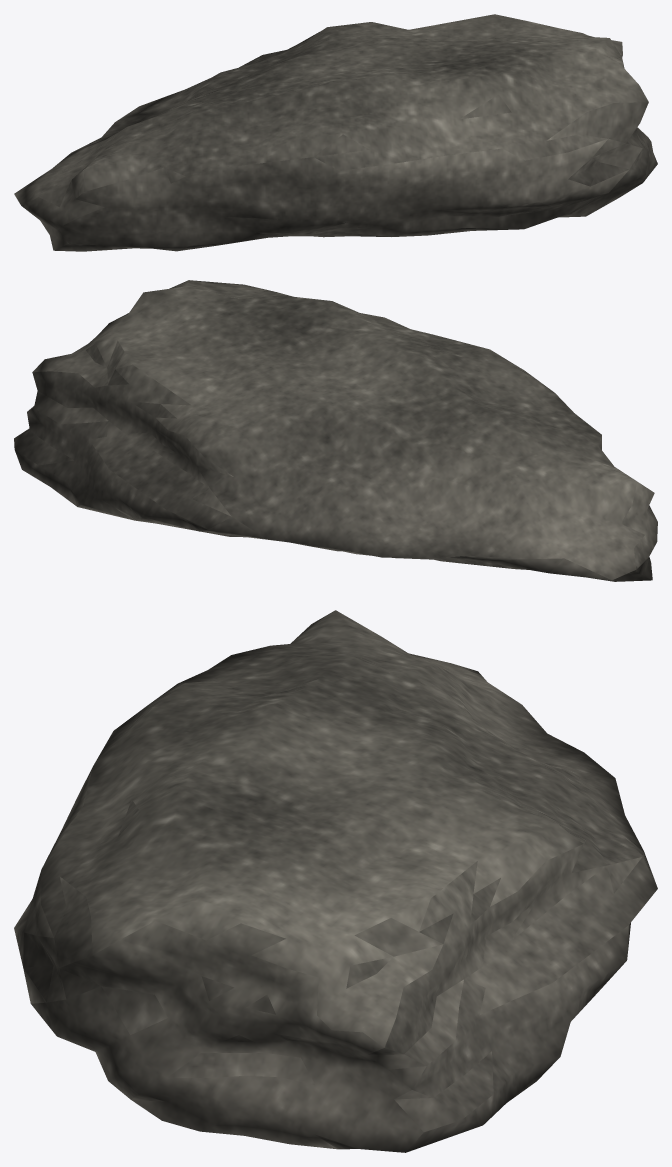
The model's file is RockSlab.glb.
3 views of the same model, one above another, from view 1: azimuth 30°, elevation 25°; view 2: azimuth 150°, elevation 25°; view 3: azimuth 270°, elevation 25° (orthographic). The views are drawn at different scales.
Visible parts, largest first — view 1: RockSlabVisual; view 2: RockSlabVisual; view 3: RockSlabVisual.
Part boxes in pixels (x1,y1,x2,y2): RockSlabVisual: [14, 14, 657, 251]; RockSlabVisual: [14, 280, 657, 581]; RockSlabVisual: [14, 610, 657, 1152].
Size of what is drawn, in the model's own units: 3.84 by 1.03 by 2.4.
1 material, 1 textured.
